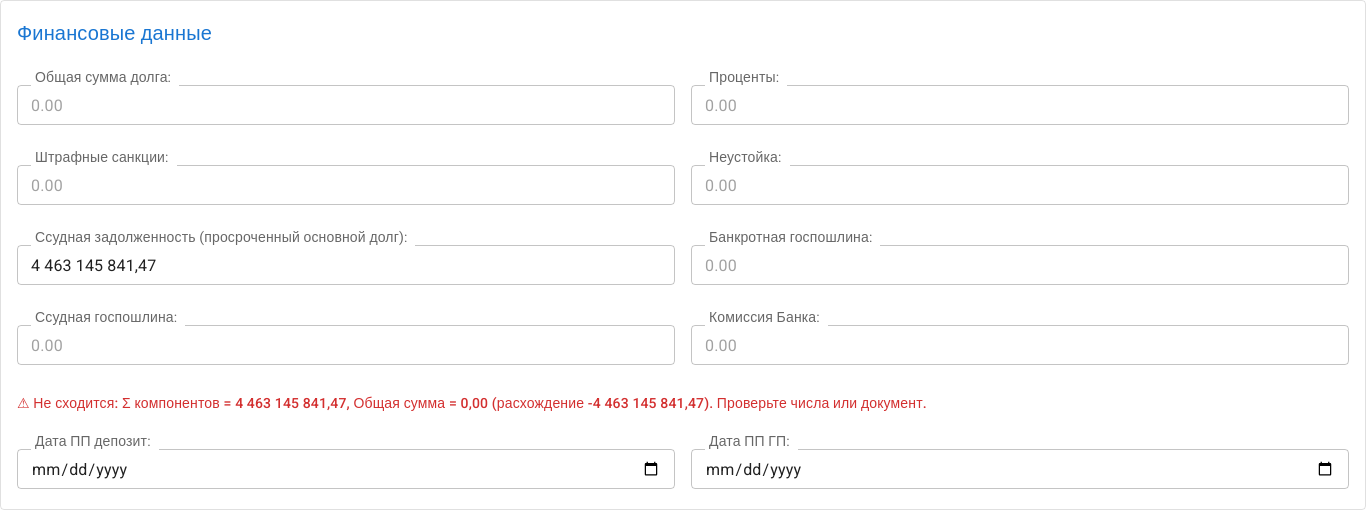
FinancesSection — обычный кредитор (не ФНС) › тултип при ОДНОМ слагаемом — «Из документа: N» (кейс Форте Хоум)
Hover over the field showing "4 463 145 841,47" at (346, 265), box x1=17 y1=245 x2=675 y2=285
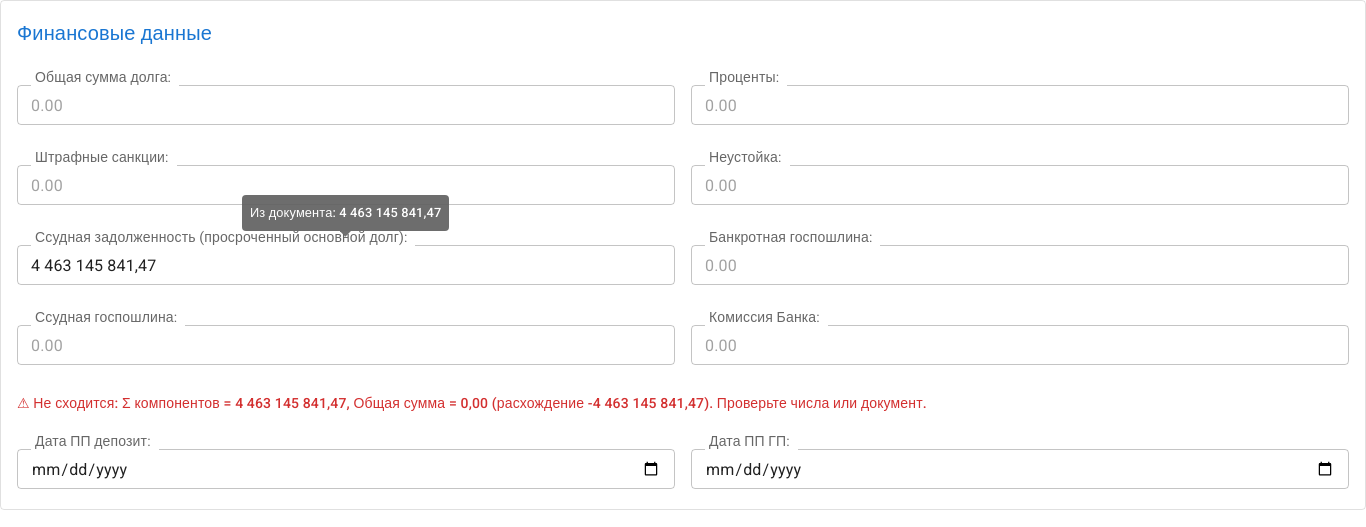
Expected: the text "Из документа: 4 463 145 841,47" is shown, x1=250 y1=202 x2=441 y2=223
